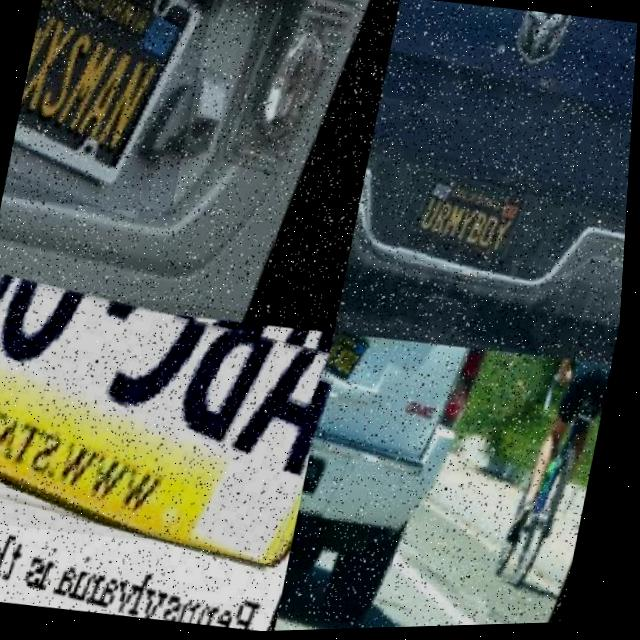LicensePlate: (0, 274, 347, 567), (4, 0, 217, 221), (404, 175, 527, 274), (325, 332, 375, 393)
